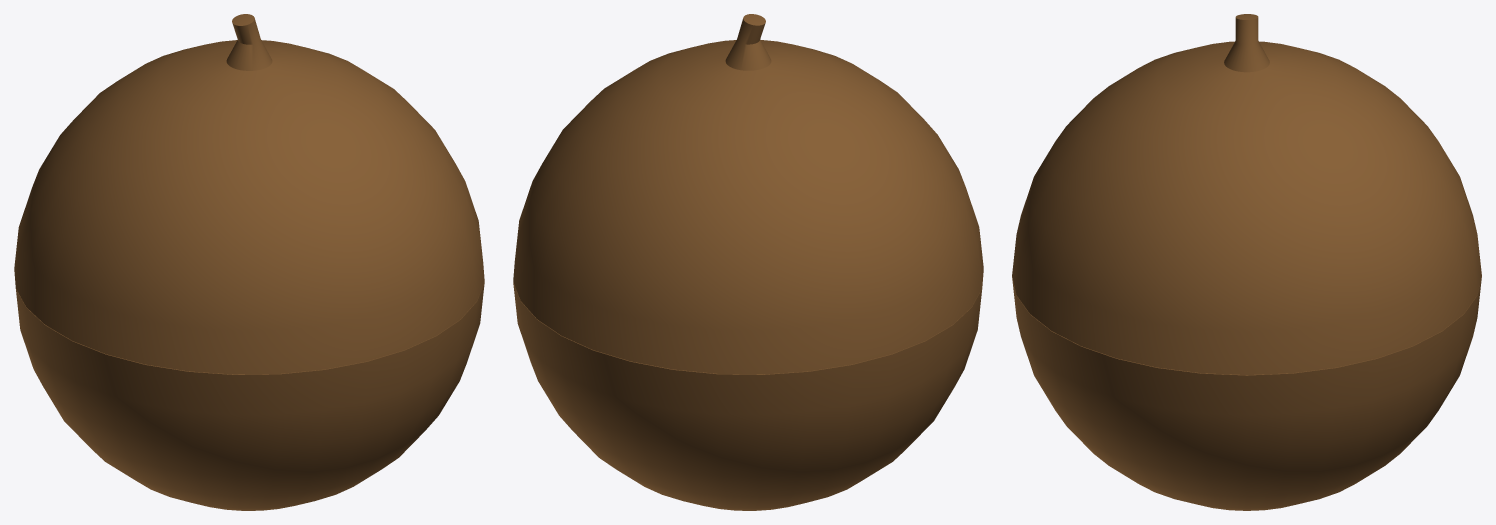
The model's file is Fruit_Coconut_Sliced.fbx.
The picture shows the model from 3 angles, left to right: view 1: azimuth 30°, elevation 25°; view 2: azimuth 150°, elevation 25°; view 3: azimuth 270°, elevation 25°; orthographic projection.
Visible parts, largest first — view 1: Top, Bottom; view 2: Top, Bottom; view 3: Top, Bottom.
Part boxes in pixels (left/top/right/bottom): Top: left=14, top=14, right=484, bottom=374; Bottom: left=15, top=282, right=484, bottom=510; Top: left=513, top=14, right=983, bottom=374; Bottom: left=513, top=282, right=982, bottom=510; Top: left=1012, top=14, right=1481, bottom=374; Bottom: left=1012, top=276, right=1481, bottom=510.
Size of the model in its own units: 200 by 221 by 200.
